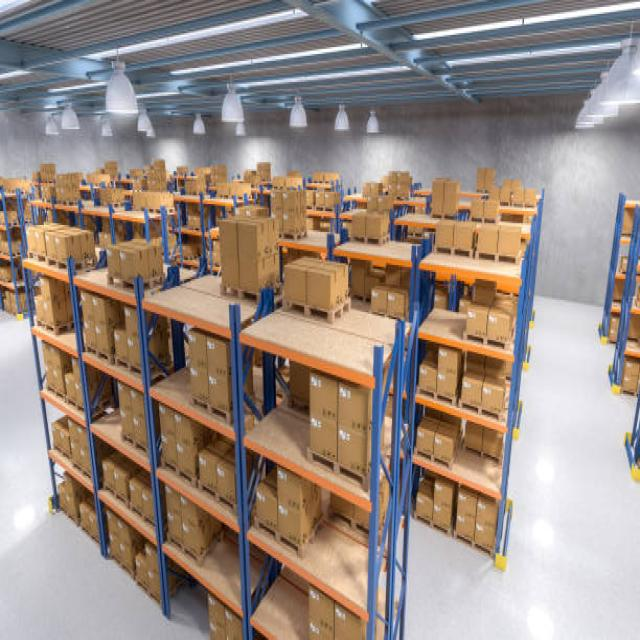Wooden-Pallets: (248, 509, 324, 559), (306, 442, 369, 493), (278, 290, 353, 326), (437, 241, 518, 270), (455, 397, 508, 439), (415, 376, 459, 419), (214, 278, 262, 312), (464, 324, 508, 359), (432, 237, 476, 270), (474, 247, 520, 275)
